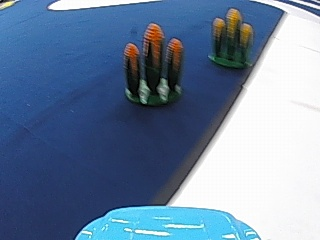corn: (121, 25, 185, 111), (208, 7, 254, 70)
